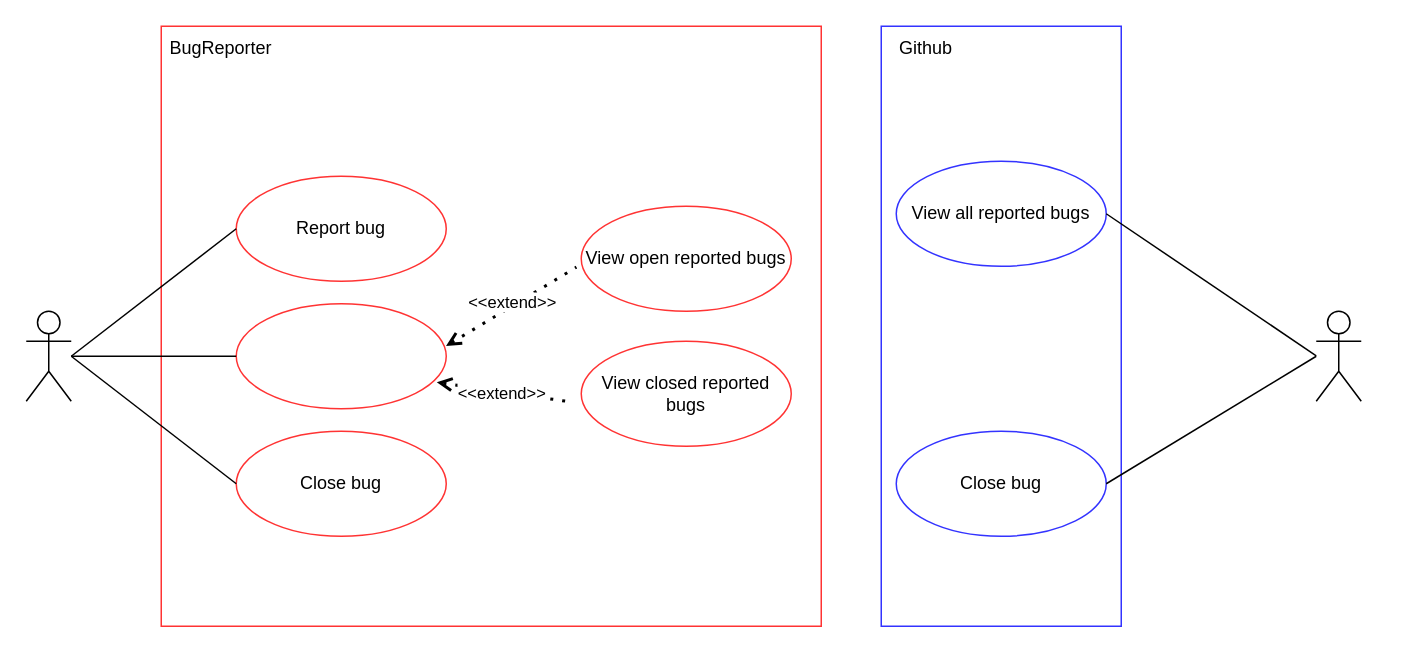
Some shapes in this 1406 by 653 pixel diagram are drawn without their labels. The centre of each missing label's shape, as x and y in pixels:
"Developer" belongs at (x=1338, y=355).
"User" belongs at (x=48, y=355).
"View reported bugs" belongs at (x=340, y=355).
